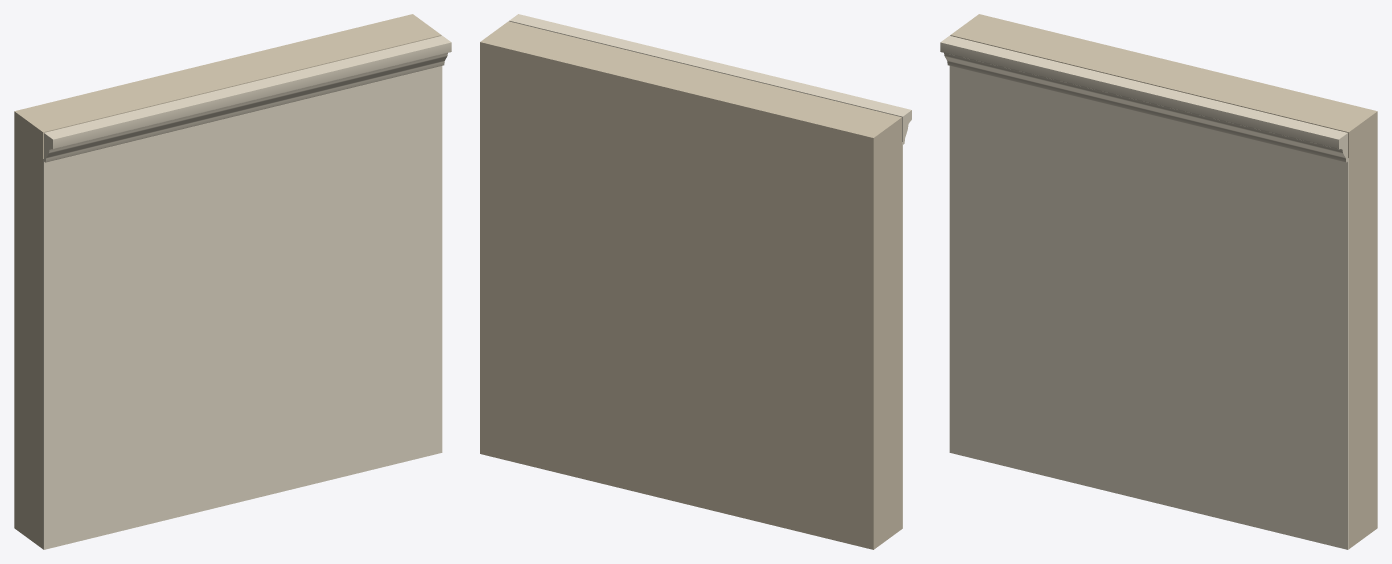
File: Shop_WallUpper.fbx
3 renders of one model, left to right at view 1: azimuth 30°, elevation 25°; view 2: azimuth 150°, elevation 25°; view 3: azimuth 330°, elevation 25°, orthographic.
Parts seen in each view (by area): view 1: Upper, Core; view 2: Core, Upper; view 3: Upper, Core.
Part boxes in pixels (<box>): Upper: <box>43,35,451,549</box>; Core: <box>14,14,441,548</box>; Core: <box>480,21,901,549</box>; Upper: <box>509,14,911,528</box>; Upper: <box>940,35,1348,549</box>; Core: <box>950,14,1377,548</box>.
Bounding box in the file's own units: 800 × 800 × 135.
